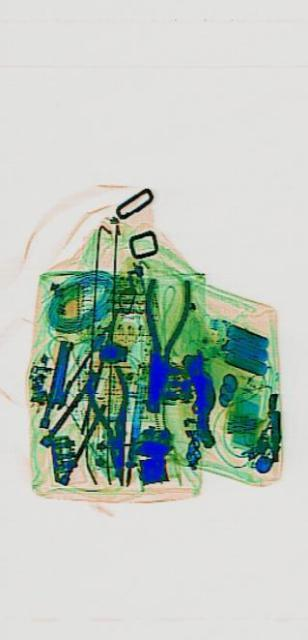Pliers: (130, 260, 190, 420), (82, 353, 140, 497)
